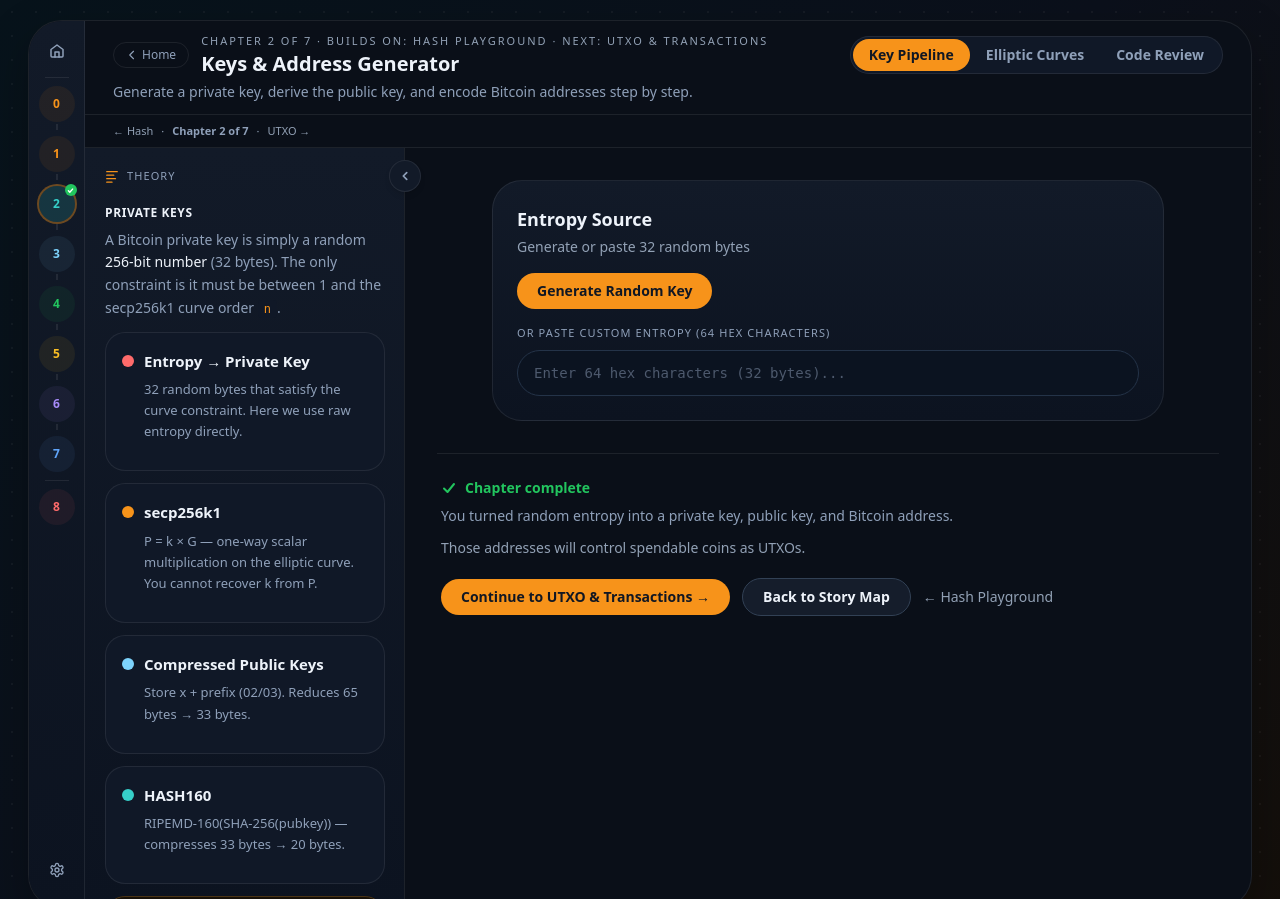
Scenario: KeysExplorer › AC5: algorithm names present in DOM for tooltips
Click the button "Generate Random Key" at (615, 291), box [517, 273, 712, 309]
(page scrolled)
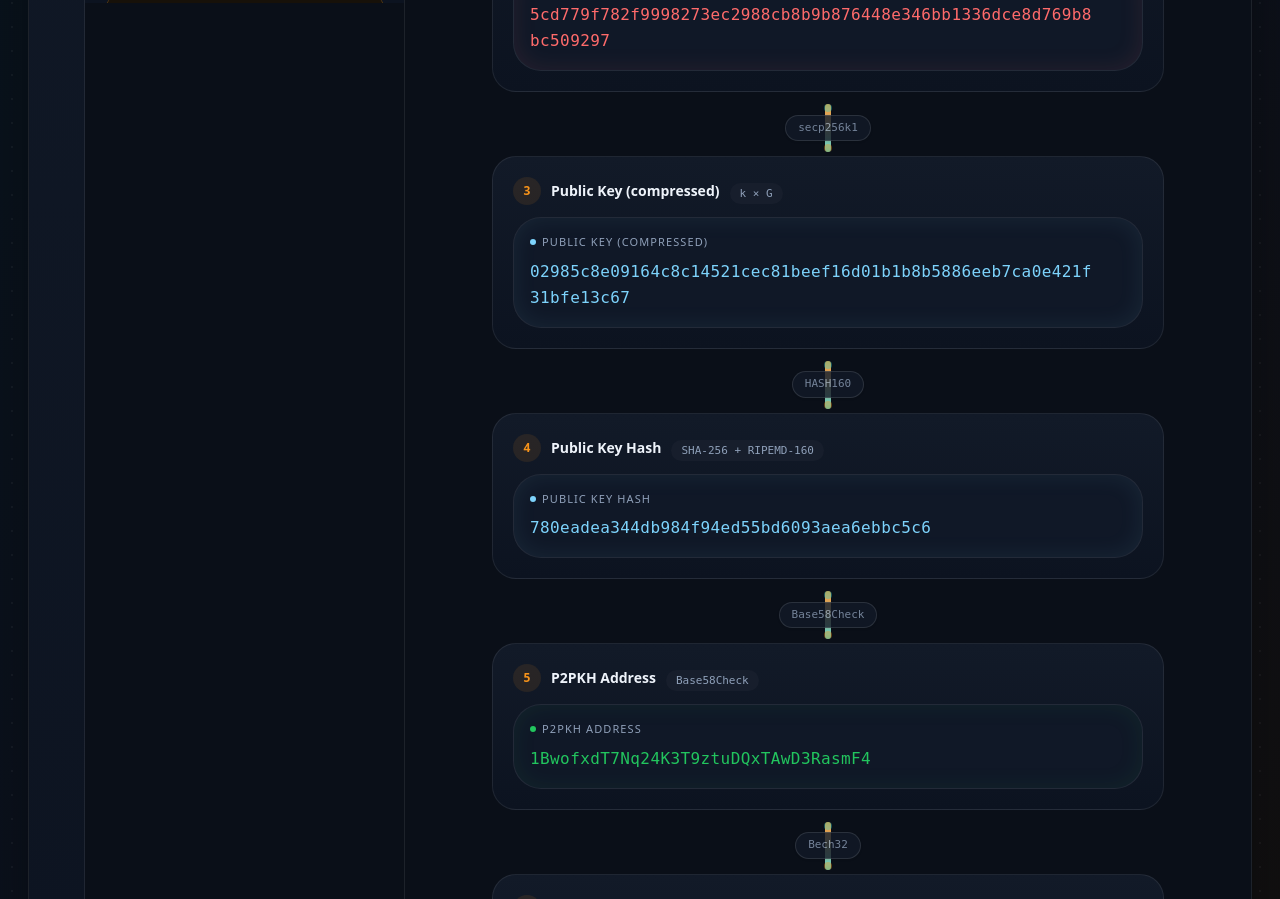
Result: the text "k × G" is shown at [730, 183, 783, 204]
Result: the text "SHA-256 + RIPEMD-160" is shown at [672, 440, 824, 460]
